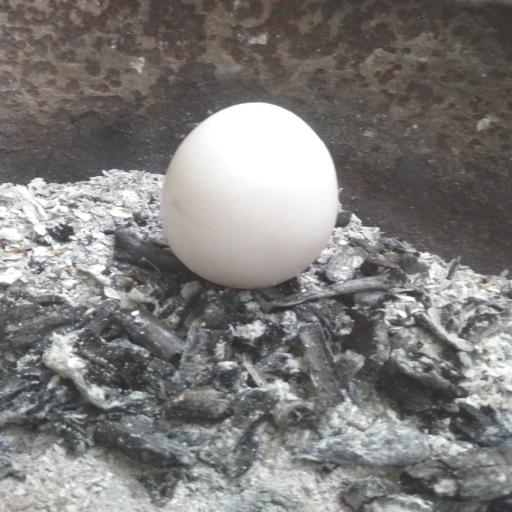telur: (149, 90, 346, 298)
